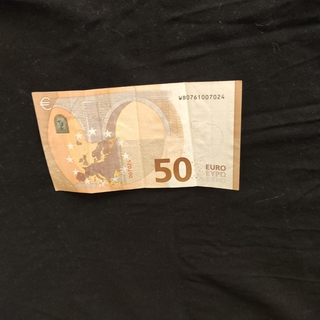50EUROBack: (30, 79, 243, 194)
